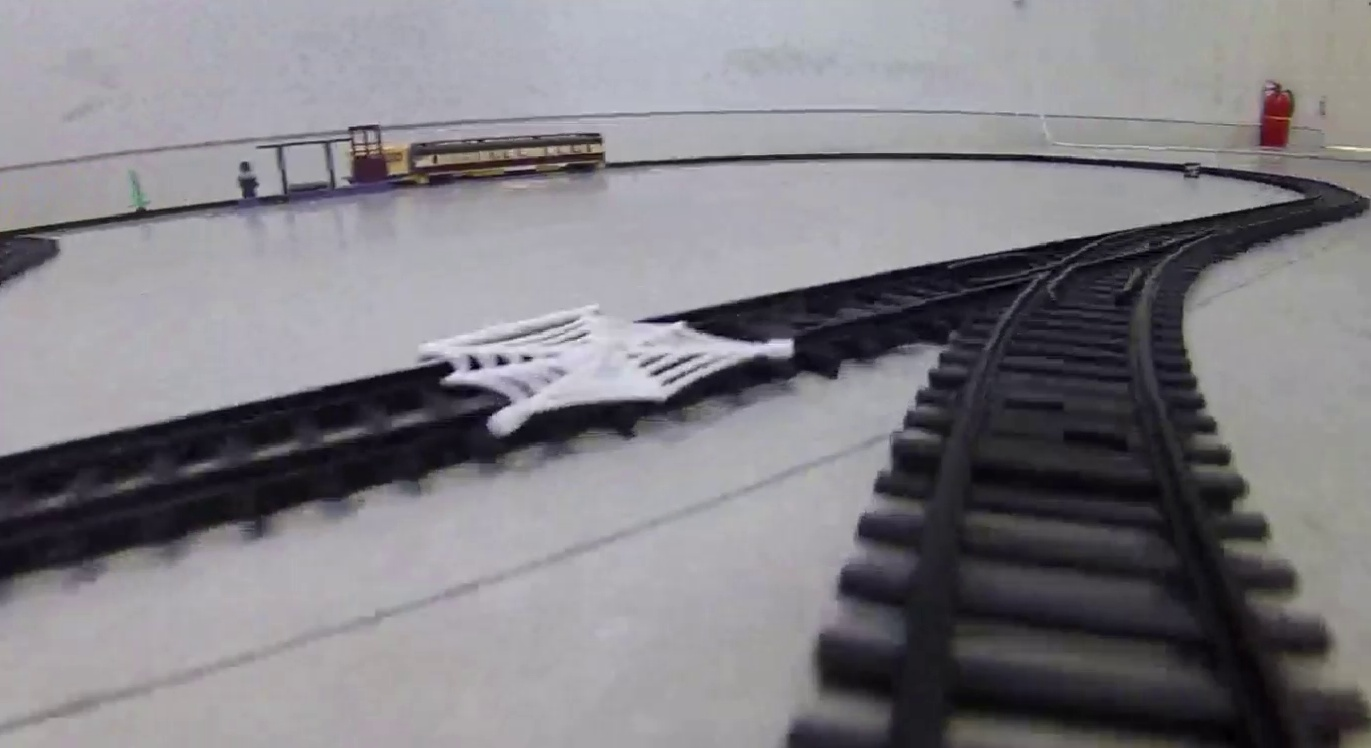web: (416, 301, 795, 440)
